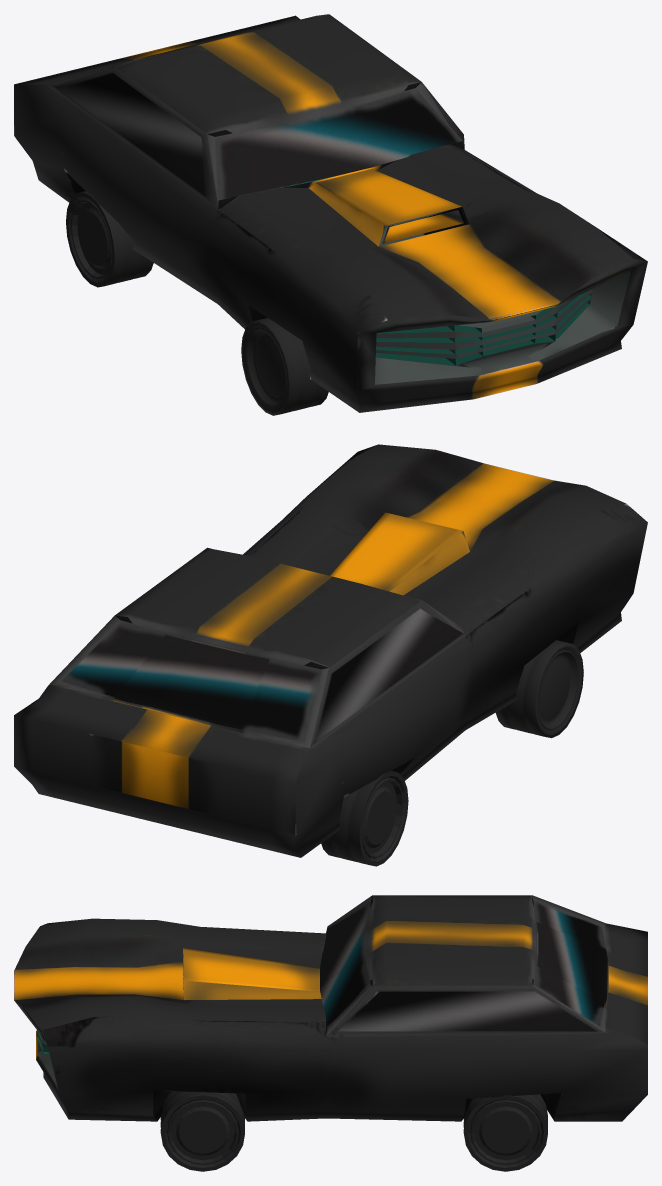
The model's file is BILBIL.fbx.
3 views of the same model, one above another, from view 1: azimuth 30°, elevation 25°; view 2: azimuth 150°, elevation 25°; view 3: azimuth 270°, elevation 25° (orthographic). The views are drawn at different scales.
Parts seen in each view (by area): view 1: car_high1, pCylinder4, pCylinder5; view 2: car_high1, pCylinder4, pCylinder5; view 3: car_high1, pCylinder7, pCylinder6.
Part boxes in pixels (box(x1,y1,x2,y2)): car_high1: box(14, 14, 647, 412); pCylinder4: box(241, 318, 328, 415); pCylinder5: box(66, 191, 153, 287); car_high1: box(14, 444, 647, 857); pCylinder4: box(495, 640, 583, 738); pCylinder5: box(321, 771, 408, 866); car_high1: box(14, 895, 647, 1121); pCylinder7: box(160, 1091, 244, 1171); pCylinder6: box(463, 1094, 547, 1171).
Bounding box in the file's own units: 2.75 × 1.8 × 5.8.
